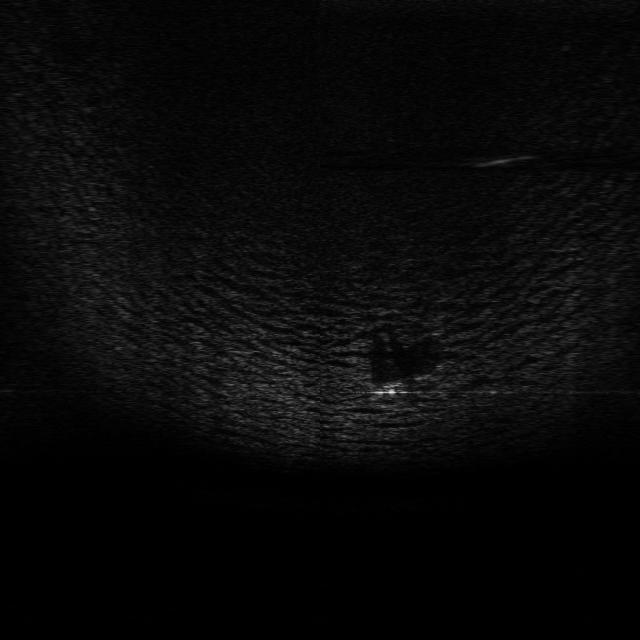plane: (370, 370, 436, 400)
